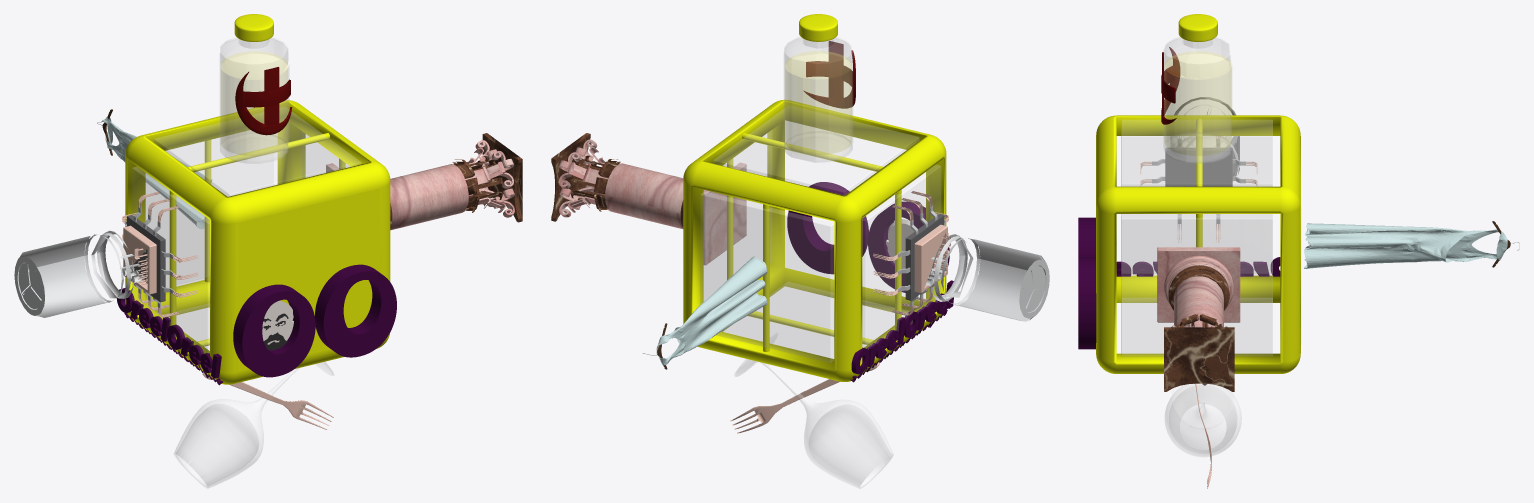
Rendered from HEXplainRBST.glb.
The picture shows the model from 3 angles, left to right: view 1: azimuth 30°, elevation 25°; view 2: azimuth 150°, elevation 25°; view 3: azimuth 270°, elevation 25°; orthographic projection.
Visible parts, largest first — view 1: HEX, OO, RMDY, CTHD, cth9, MRKT_bottle, nurbsToPoly1, GRMN, MRKT_bottleLiquid, BDY, OreelOreel, DRESS (+15 smaller); view 2: HEX, GRMN, MRKT_bottle, RMDY, CTHD, cth9, MRKT_bottleLiquid, nurbsToPoly1, GRNT, FDBV, OO, DRESS (+18 smaller); view 3: HEX, GRNT, CTHD, MRKT_bottle, RMDY, DRESS, MRKT_bottleLiquid, nurbsToPoly1, crown, FDBV, pCube43, OO (+8 smaller).
Boxes of the visible parts, left/top/right/bottom form: HEX: left=125, top=100, right=390, bottom=384; OO: left=233, top=264, right=396, bottom=377; RMDY: left=154, top=109, right=361, bottom=196; CTHD: left=132, top=167, right=209, bottom=353; cth9: left=14, top=230, right=139, bottom=317; MRKT_bottle: left=220, top=37, right=289, bottom=163; nurbsToPoly1: left=174, top=362, right=333, bottom=488; GRMN: left=146, top=138, right=273, bottom=286; MRKT_bottleLiquid: left=221, top=52, right=287, bottom=155; BDY: left=390, top=164, right=468, bottom=230; OreelOreel: left=117, top=288, right=221, bottom=378; DRESS: left=101, top=116, right=211, bottom=229; HEX: left=683, top=100, right=946, bottom=381; GRMN: left=700, top=192, right=833, bottom=362; MRKT_bottle: left=784, top=37, right=852, bottom=162; RMDY: left=713, top=109, right=919, bottom=195; CTHD: left=862, top=165, right=940, bottom=349; cth9: left=930, top=234, right=1049, bottom=321; MRKT_bottleLiquid: left=785, top=51, right=851, bottom=154; nurbsToPoly1: left=734, top=359, right=893, bottom=488; GRNT: left=704, top=130, right=771, bottom=300; FDBV: left=722, top=282, right=908, bottom=358; OO: left=787, top=182, right=949, bottom=292; DRESS: left=656, top=256, right=767, bottom=365; HEX: left=1096, top=115, right=1300, bottom=373; GRNT: left=1121, top=215, right=1272, bottom=356; CTHD: left=1121, top=136, right=1272, bottom=273; MRKT_bottle: left=1163, top=37, right=1230, bottom=163; RMDY: left=1121, top=120, right=1272, bottom=186; DRESS: left=1304, top=223, right=1507, bottom=268; MRKT_bottleLiquid: left=1165, top=52, right=1231, bottom=155; nurbsToPoly1: left=1165, top=384, right=1241, bottom=456; crown: left=1164, top=327, right=1234, bottom=391; FDBV: left=1121, top=298, right=1272, bottom=352; pCube43: left=1157, top=247, right=1240, bottom=322; OO: left=1078, top=217, right=1096, bottom=349.
Bounding box in the file's own units: 14.46 × 13.33 × 11.74.
Materials: 19 (2 with a texture image).
